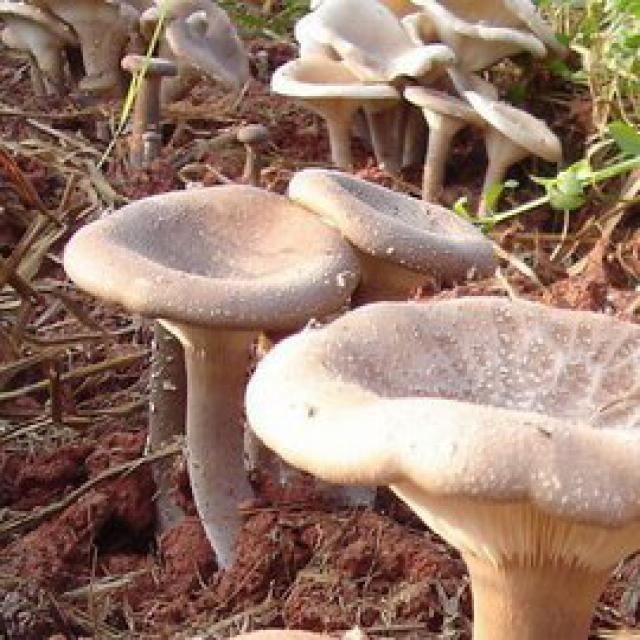Clitocybe maxima: (254, 302, 640, 623), (68, 182, 343, 555), (280, 58, 559, 213), (299, 168, 502, 297)
